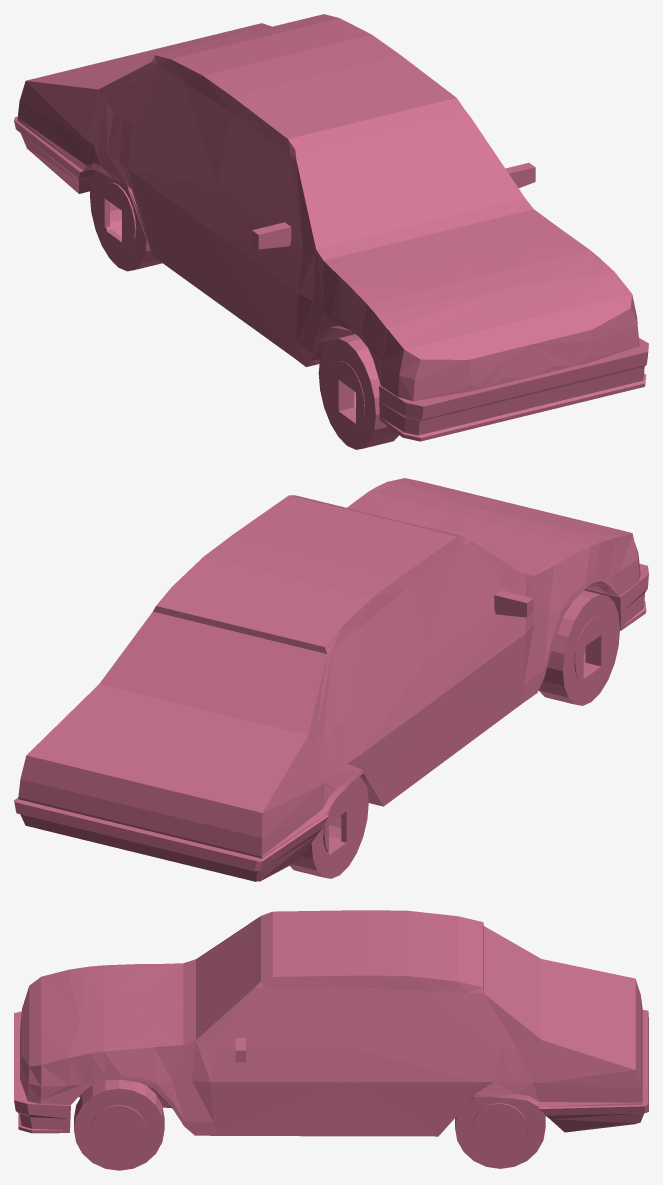
Rendered from CocheRojo.glb.
3 views of the same model, one above another, from view 1: azimuth 30°, elevation 25°; view 2: azimuth 150°, elevation 25°; view 3: azimuth 270°, elevation 25° (orthographic). The views are drawn at different scales.
Visible parts, largest first — view 1: Mesh_Mesh_head_geo.001_lambert2SG.001; view 2: Mesh_Mesh_head_geo.001_lambert2SG.001; view 3: Mesh_Mesh_head_geo.001_lambert2SG.001.
Part boxes in pixels (<box>): Mesh_Mesh_head_geo.001_lambert2SG.001: <box>14,14,648,449</box>; Mesh_Mesh_head_geo.001_lambert2SG.001: <box>14,478,648,881</box>; Mesh_Mesh_head_geo.001_lambert2SG.001: <box>14,910,648,1170</box>.
Bounding box in the file's own units: 0.00235 × 0.00185 × 0.00587.
